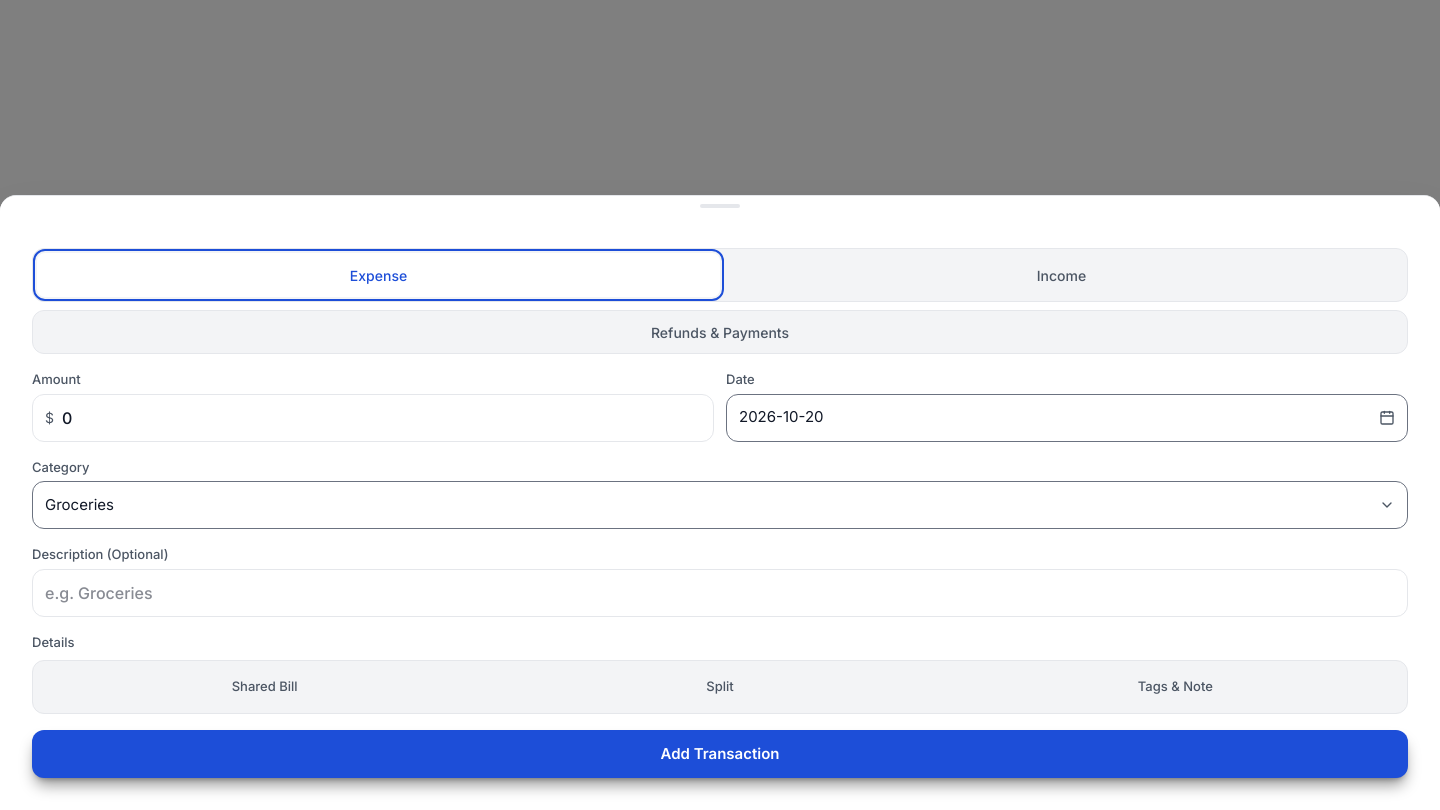
Test: TransactionModal on a phone › shows a reimbursement card for income instead of Shared Bill and Split
The image size is (1440, 810).
Click the button "Income": x=1062, y=275 [720,253,1403,297]
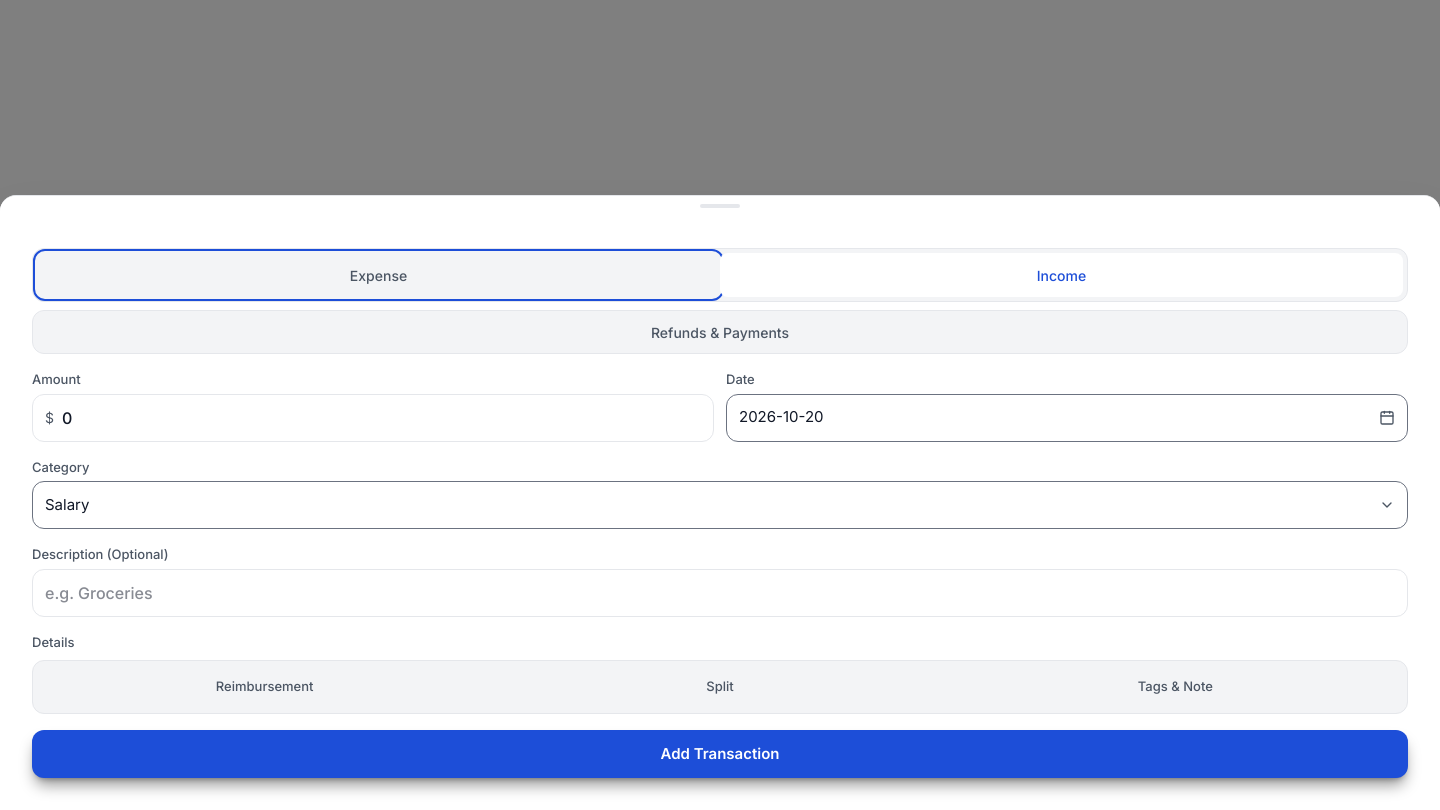
Now the button "Shared Bill" is gone
Click the button "Reimbursement": x=265, y=687 [37,665,492,709]
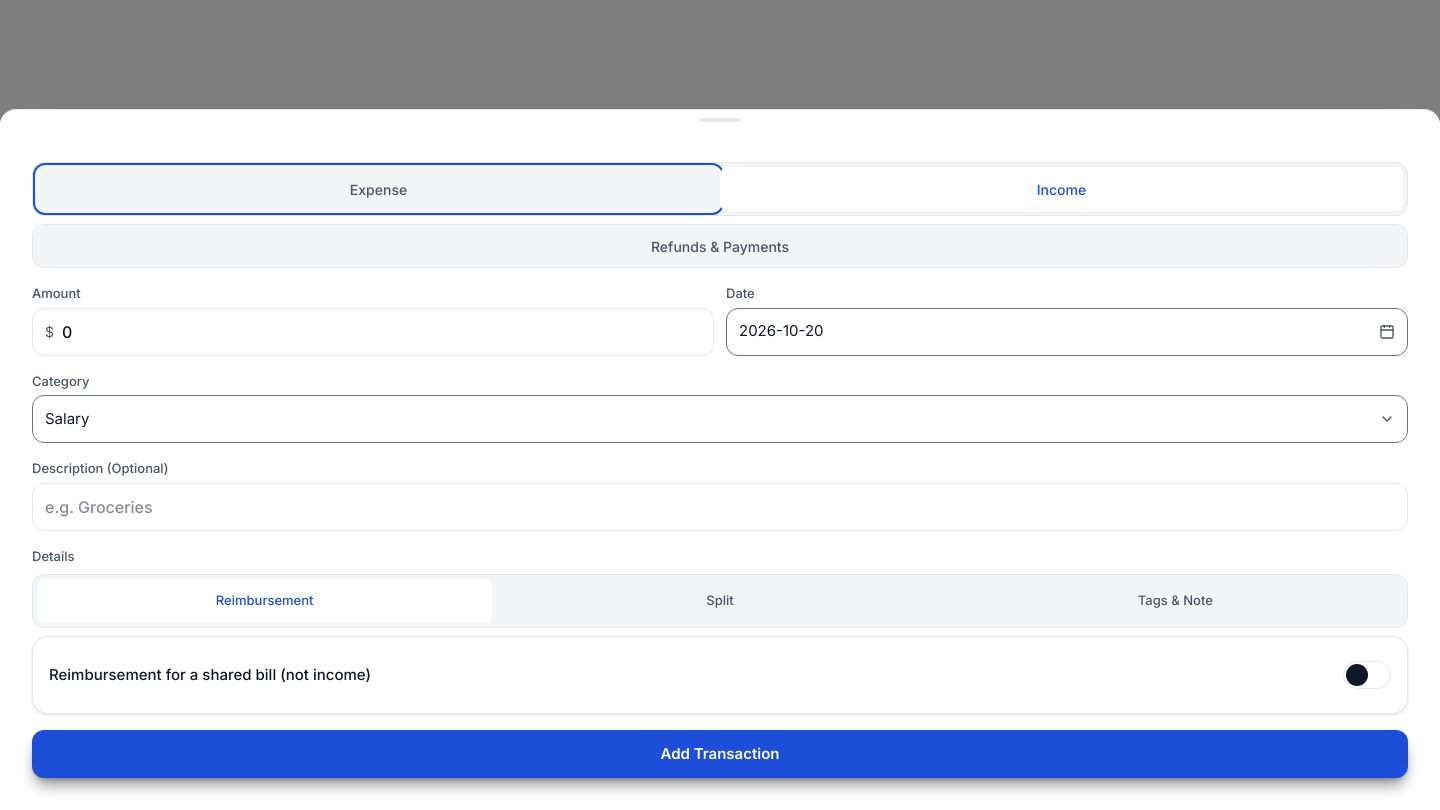
Click the switch named "Reimbursement for a shared bill": x=1367, y=675 [1343,661,1391,689]
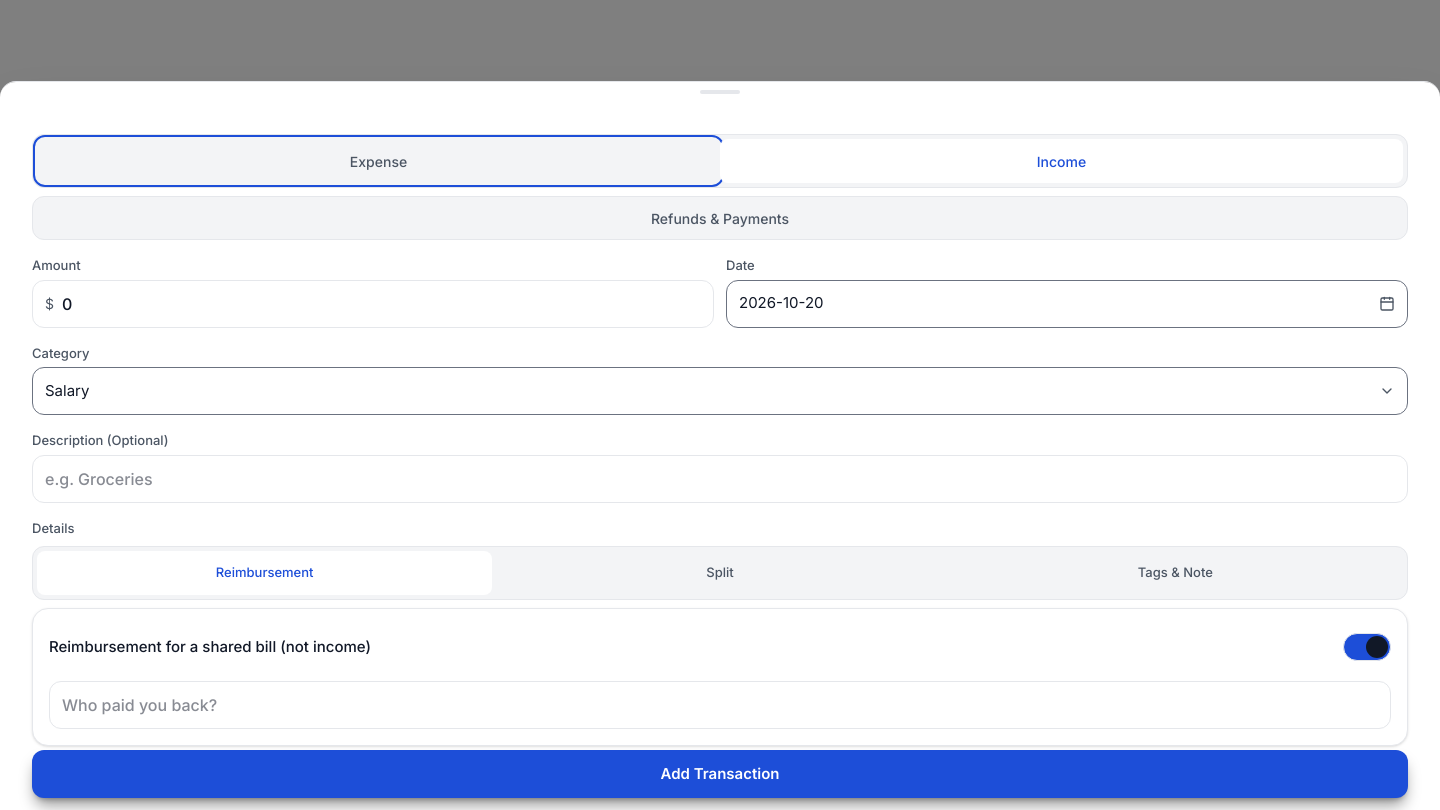
Now the field with placeholder "Who paid you back?" is shown, box [62,693,1378,717]
